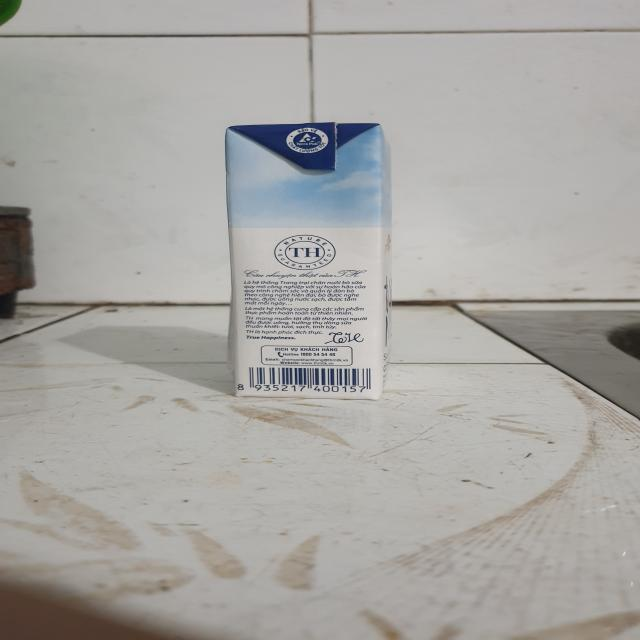TH: (232, 123, 388, 406)
